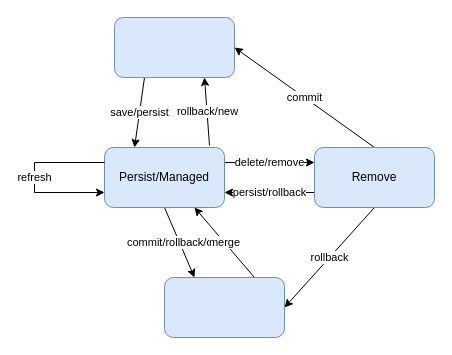
The diagram is 452 pixels wide and 355 high, and some of its shapes have lost their labels. Here are the shapes that lost their labels. From the top down, the box of each, then its label:
(114, 16, 234, 78): New/Transient
(164, 276, 284, 338): Detach
